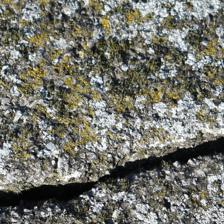Crack: (3, 67, 217, 156)
